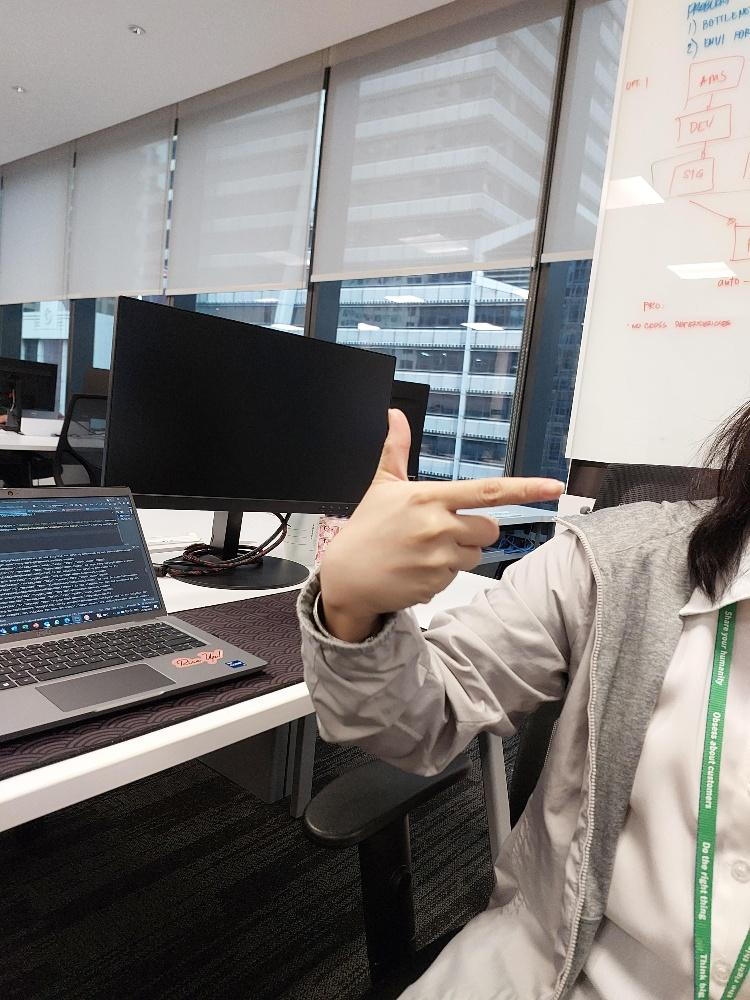g: (346, 406, 564, 611)
